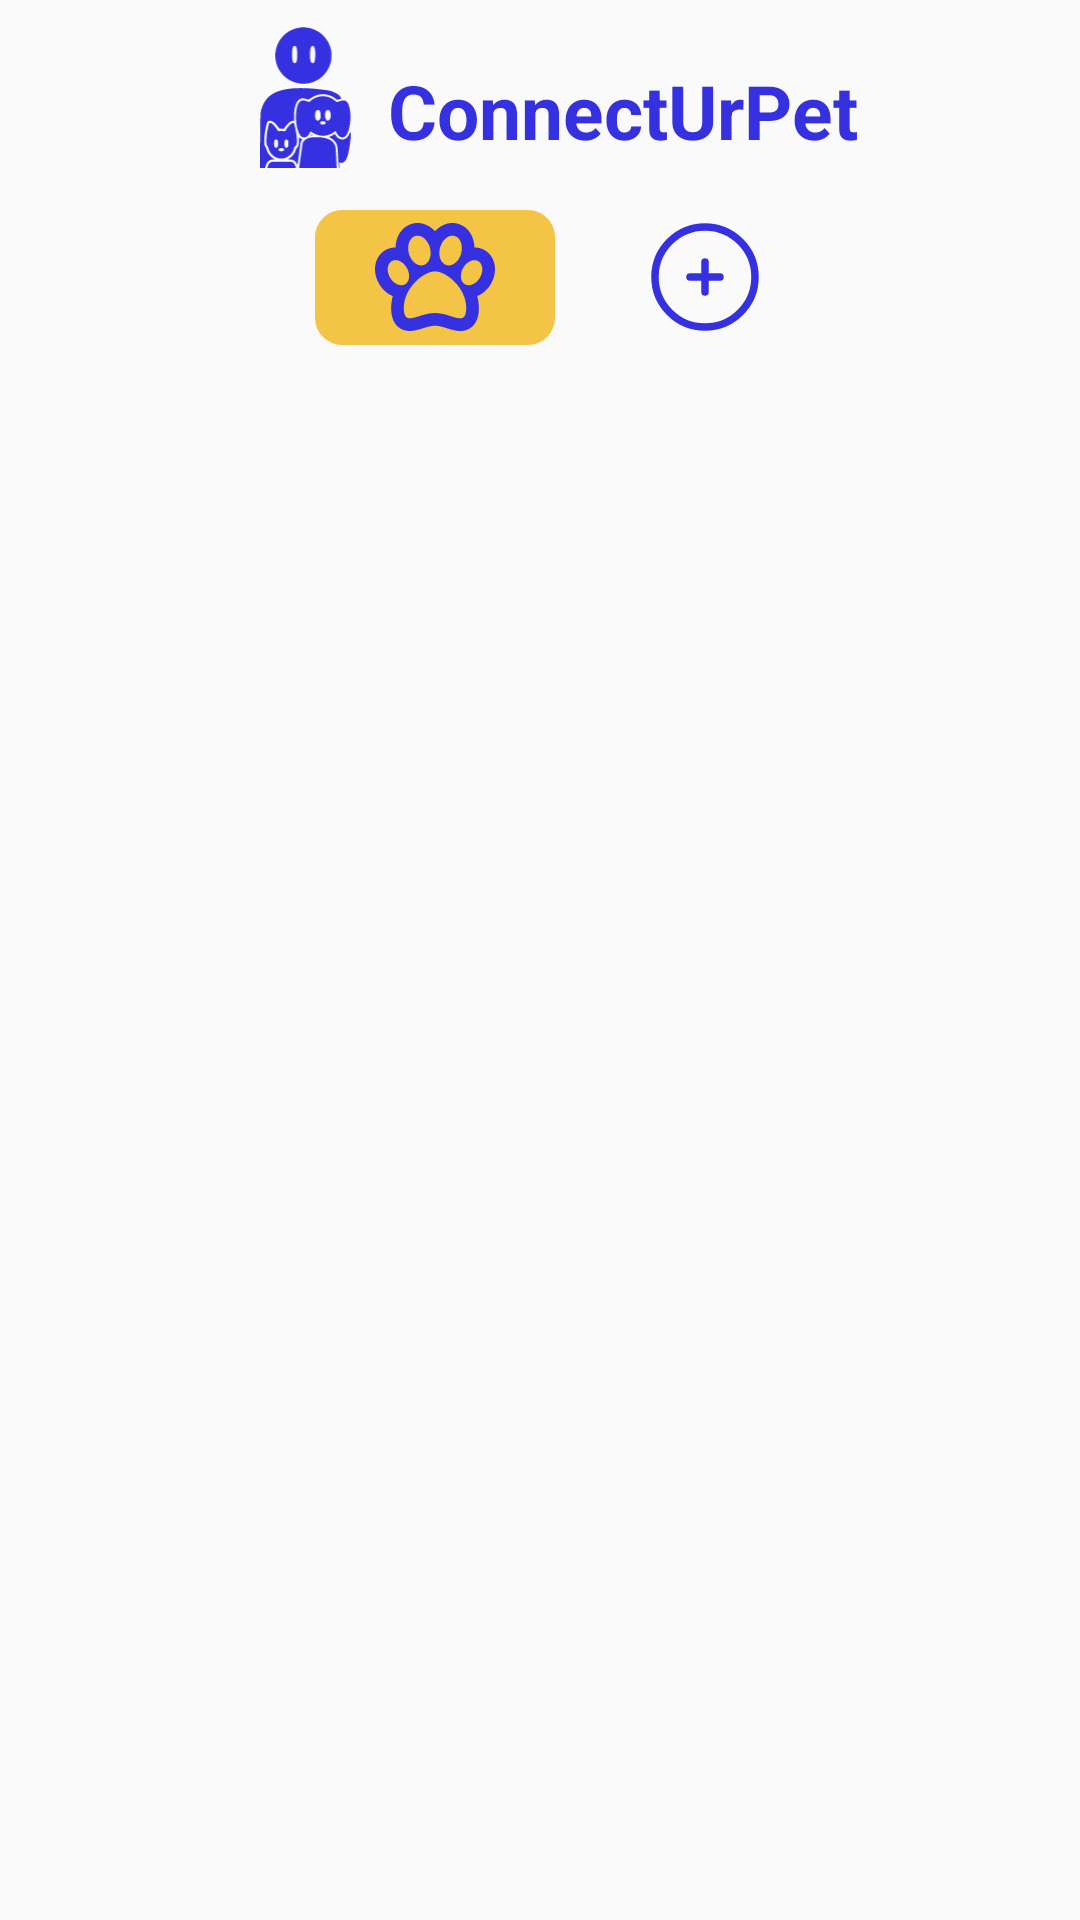

Icon click points for this 1080 x 1920 phone screenshot, format (x,y):
add circle: (705,277)
pawprint: (435,277)
